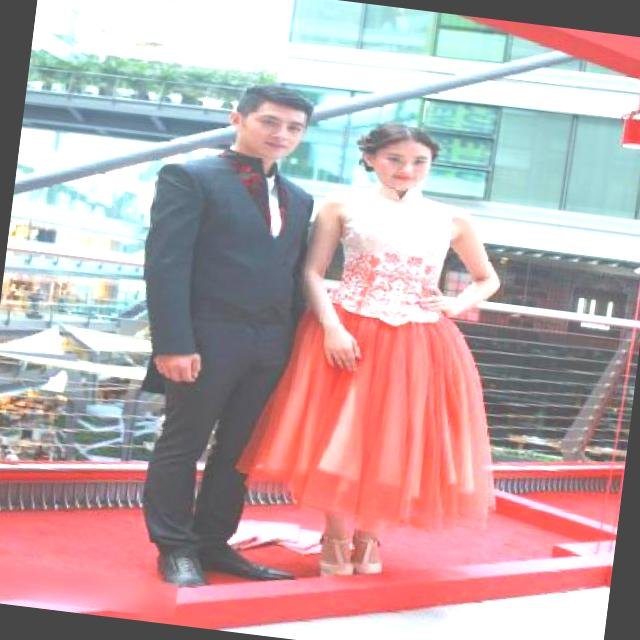Person: (77, 68, 328, 589), (266, 95, 498, 591)
